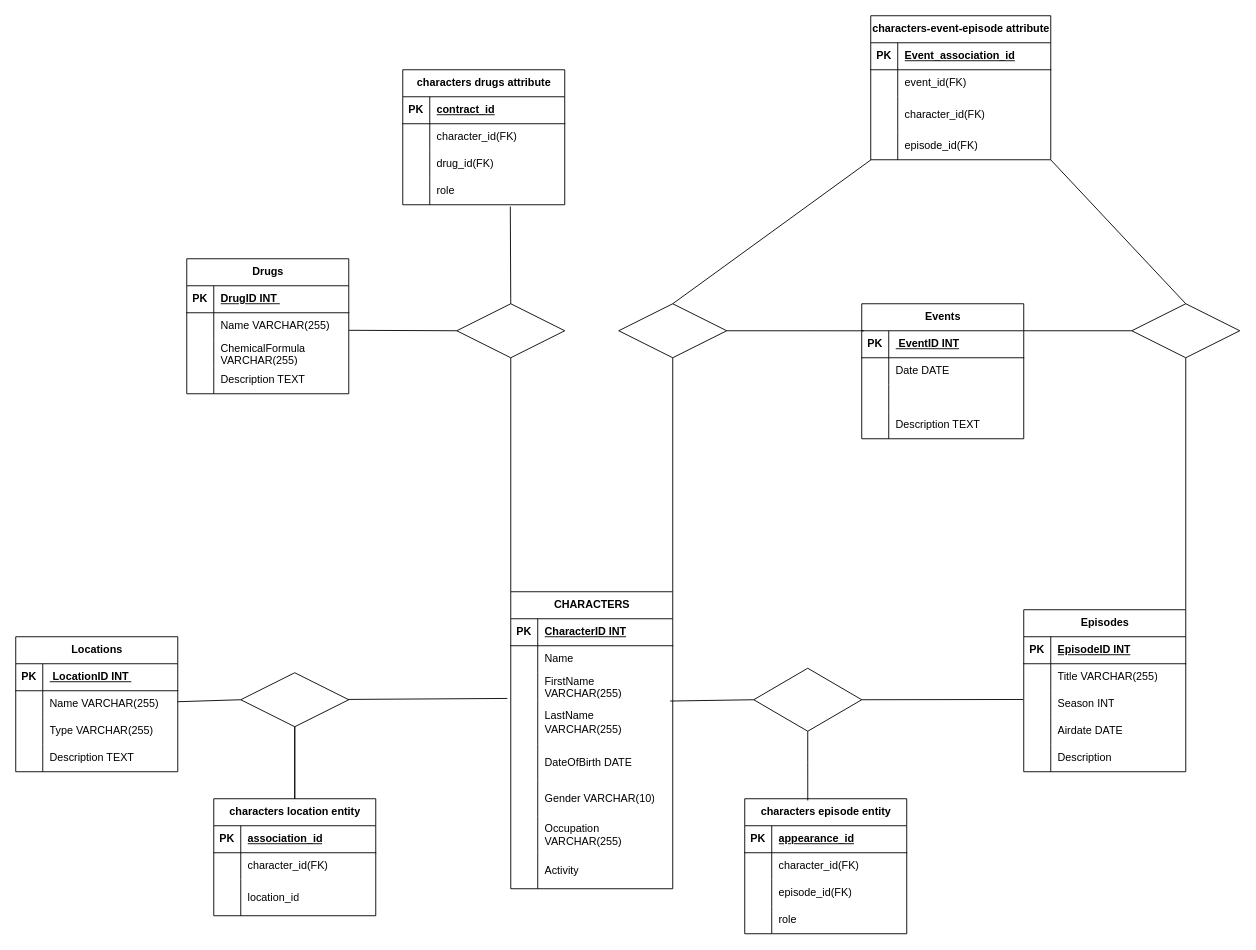
The diagram is 1256 pixels wide and 950 high, and some of its shapes have lost their labels. The shapes that lost their labels are listed below. From the top down, each one's centre as x and y in pixels, then its label:
pixel 510 330: Drug Related
pixel 672 330: Related to character
pixel 1185 330: related to episode
pixel 294 699: BY location
pixel 807 699: apppers in
